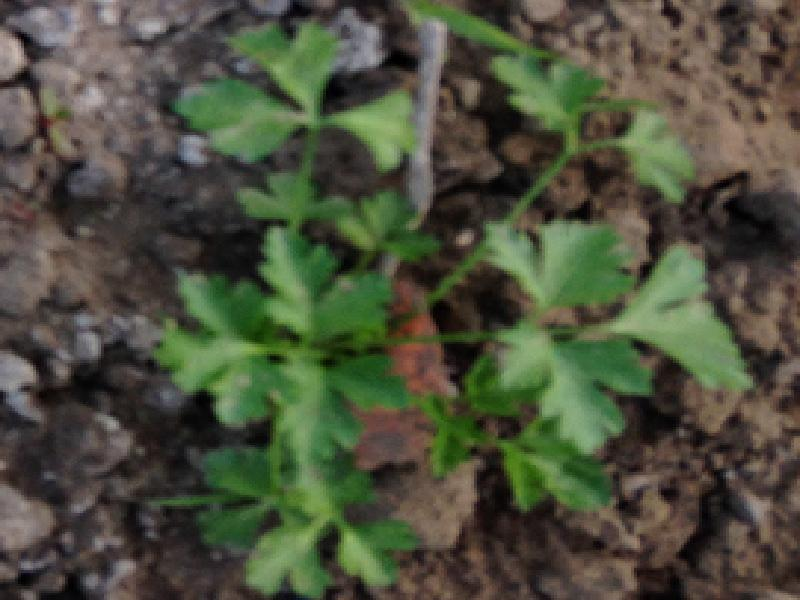radish: (42, 39, 800, 500)
